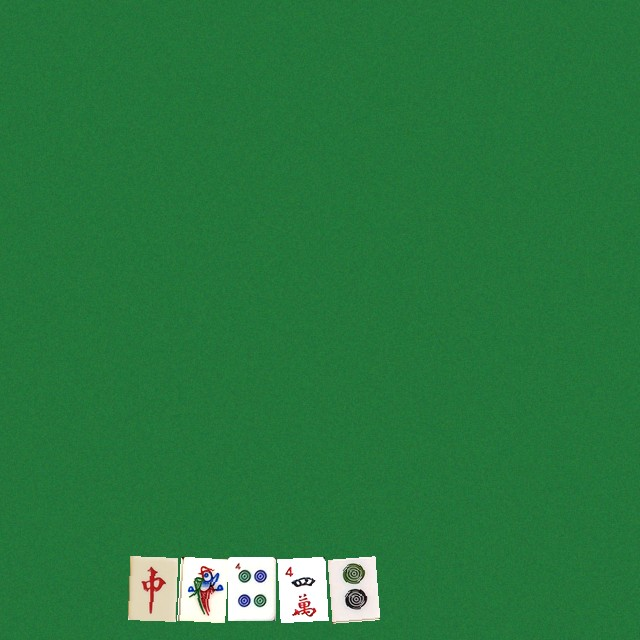tile: (127, 556, 175, 620), (177, 556, 225, 620), (227, 556, 275, 620), (277, 556, 325, 620), (327, 556, 375, 620)
